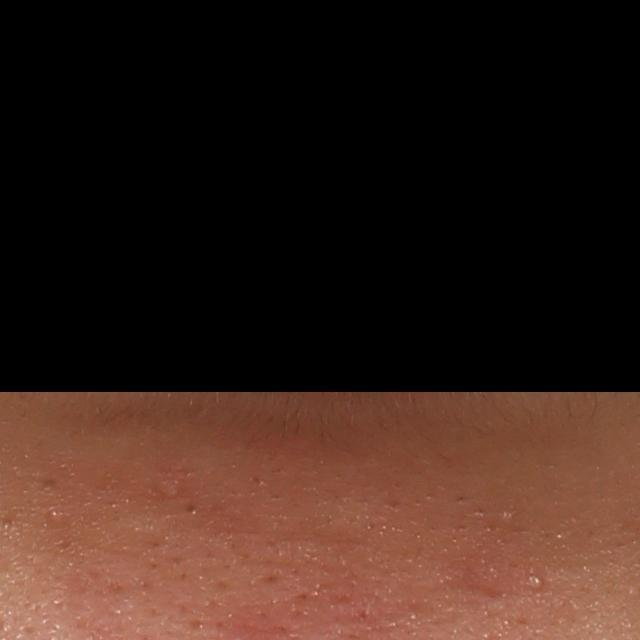comedo: (181, 500, 201, 520), (48, 507, 68, 526)
pustule: (521, 566, 551, 595)
